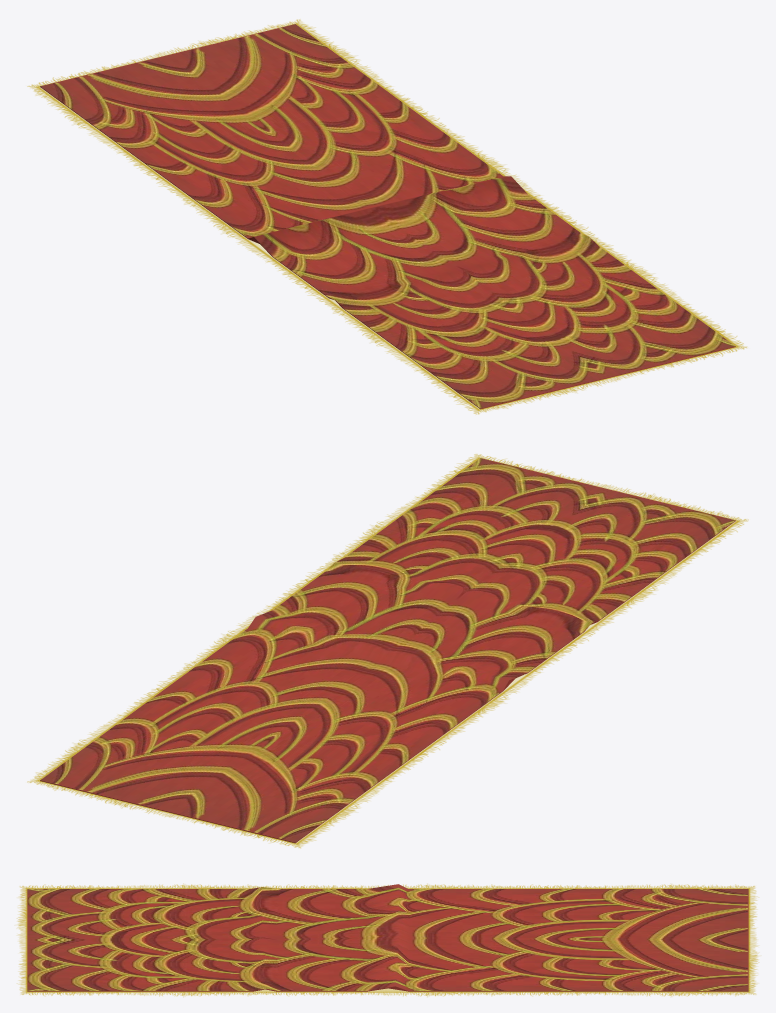
The model's file is carpet01.glb.
3 views of the same model, one above another, from view 1: azimuth 30°, elevation 25°; view 2: azimuth 150°, elevation 25°; view 3: azimuth 270°, elevation 25° (orthographic). The views are drawn at different scales.
Parts seen in each view (by area): view 1: Carpet01; view 2: Carpet01; view 3: Carpet01.
Part boxes in pixels (box(x1,y1,x2,y2)): Carpet01: box(27, 19, 746, 414); Carpet01: box(27, 454, 748, 848); Carpet01: box(17, 884, 758, 996).
Size of the model in its own units: 4.66 by 0.1005 by 12.66.
2 materials, 2 textured.
